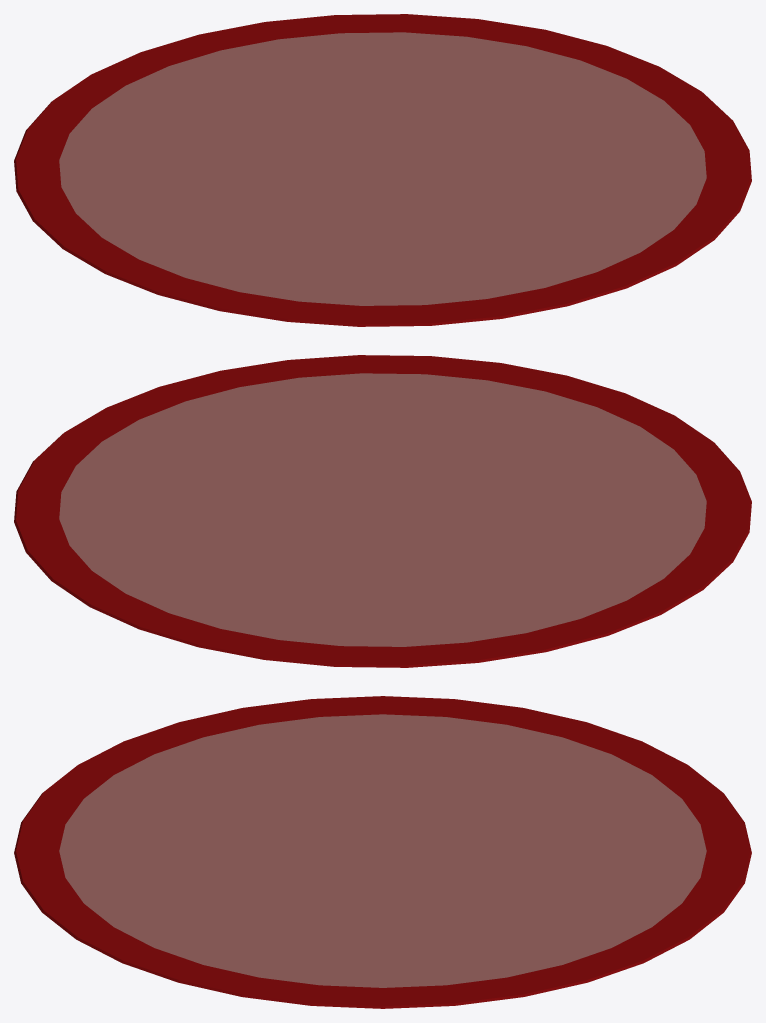
Rendered from Teppich K.fbx.
3 views of the same model, one above another, from view 1: azimuth 30°, elevation 25°; view 2: azimuth 150°, elevation 25°; view 3: azimuth 270°, elevation 25° (orthographic).
Parts seen in each view (by area): view 1: Teppich K; view 2: Teppich K; view 3: Teppich K.
Part boxes in pixels (x1,y1,x2,y2): Teppich K: (14, 14, 751, 326); Teppich K: (14, 355, 751, 667); Teppich K: (14, 696, 751, 1008).
Size of the model in its own units: 200 by 0.5392 by 200.
